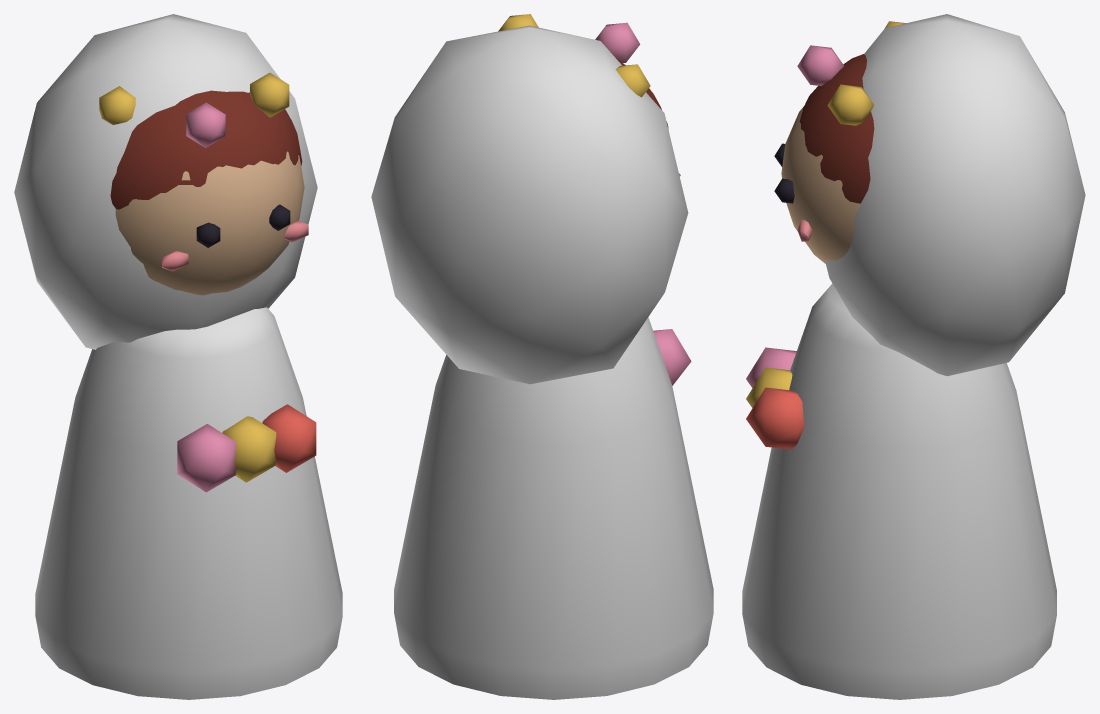
File: person_bride.fbx
3 views of the same model, side by side, from view 1: azimuth 30°, elevation 25°; view 2: azimuth 150°, elevation 25°; view 3: azimuth 270°, elevation 25° (orthographic). The views are drawn at different scales.
Visible parts, largest first — view 1: Body, Head; view 2: Body, Head; view 3: Body, Head.
Part boxes in pixels (x1,y1,x2,y2): Body: [35, 307, 342, 699]; Head: [14, 14, 317, 349]; Body: [394, 317, 713, 699]; Head: [371, 14, 688, 384]; Body: [742, 283, 1056, 699]; Head: [774, 14, 1085, 376].
Bounding box in the file's own units: 0.27 × 0.5725 × 0.2899.
